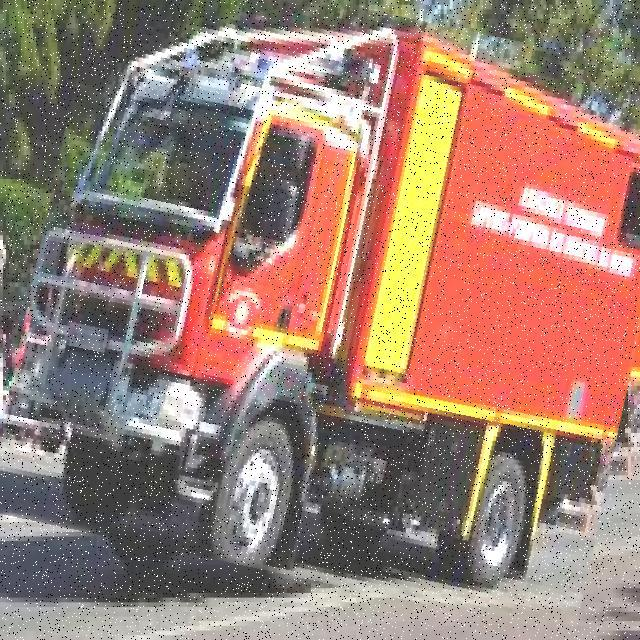pompier: (9, 0, 640, 607)
